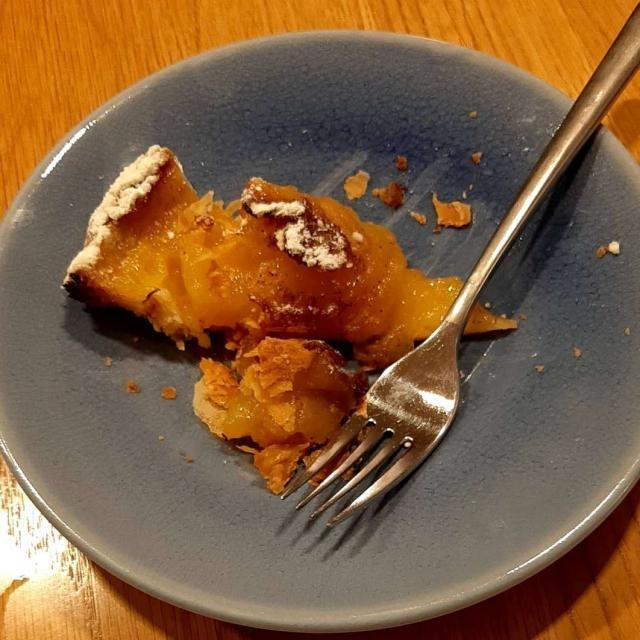apple-pie: (68, 149, 451, 484)
